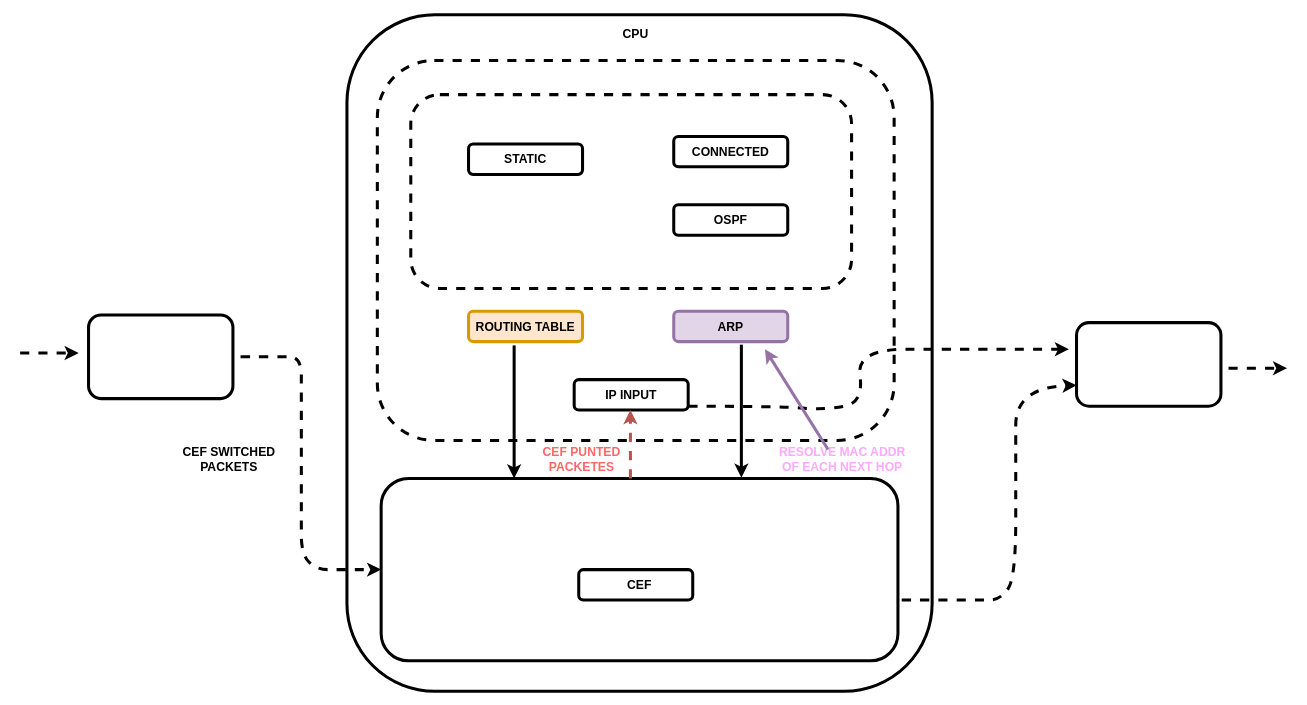
This 1307x705 diagram has some shape labels left out. Each missing label, with the box of its shape:
EGRESS IP PACKET: (1075, 321, 1222, 407)
INGRESS IP PACKET: (87, 313, 234, 400)
